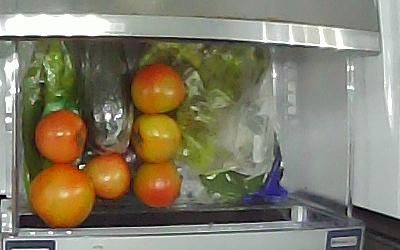tomato: (28, 162, 95, 227), (33, 109, 87, 163), (129, 62, 185, 113), (129, 112, 181, 163), (80, 152, 130, 198), (132, 161, 180, 207)
